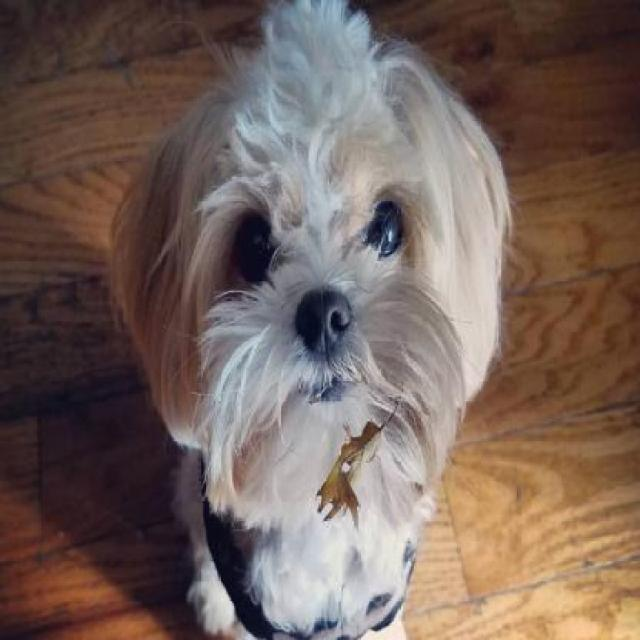animals: (87, 0, 528, 640)
